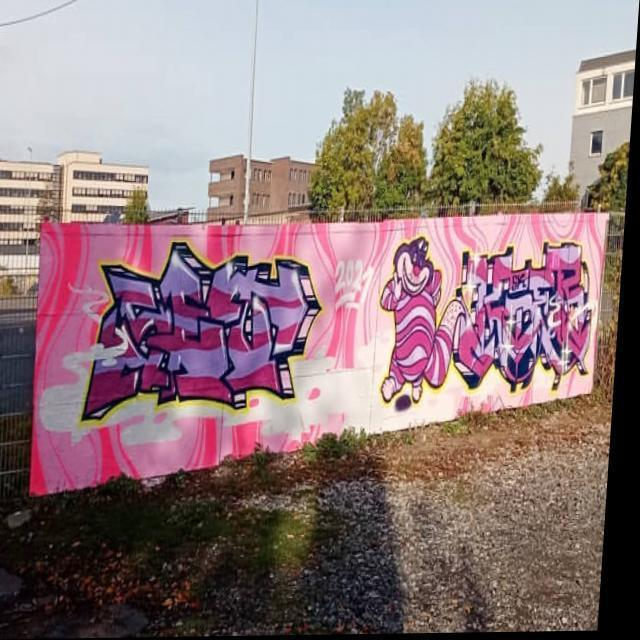nonspitting: (85, 240, 321, 422), (454, 240, 590, 390)
spitting: (378, 236, 466, 403)
